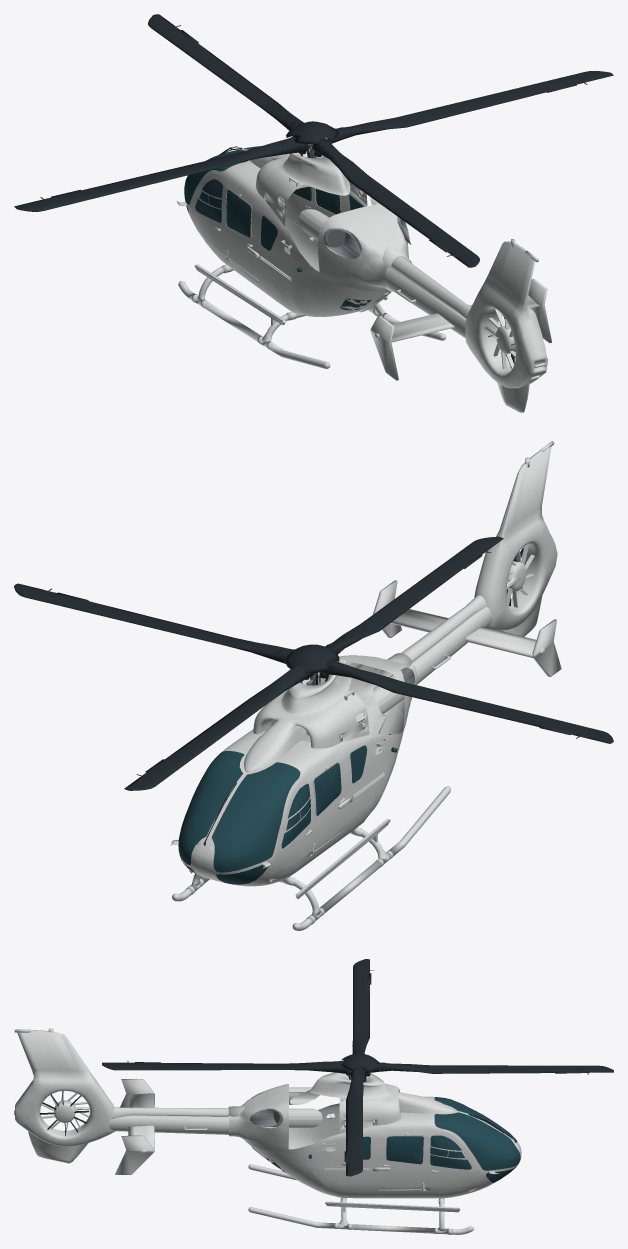
File: helicopter.glb
3 views of the same model, one above another, from view 1: azimuth 30°, elevation 25°; view 2: azimuth 150°, elevation 25°; view 3: azimuth 270°, elevation 25° (orthographic). The views are drawn at different scales.
Visible parts, largest first — view 1: paint, black, glass, metal; view 2: paint, black, glass; view 3: paint, black, glass, metal.
Boxes of the visible parts, bbox=[...] form: paint: bbox=[177, 149, 551, 412]; black: bbox=[14, 14, 613, 367]; glass: bbox=[184, 146, 389, 310]; metal: bbox=[306, 137, 411, 258]; paint: bbox=[170, 441, 561, 930]; black: bbox=[14, 536, 613, 845]; glass: bbox=[178, 734, 397, 884]; paint: bbox=[14, 1028, 521, 1234]; black: bbox=[39, 959, 613, 1176]; glass: bbox=[265, 1097, 520, 1182]; metal: bbox=[250, 1070, 366, 1126].
Bounding box in the file's own units: 10.1 × 3.98 × 11.84.
